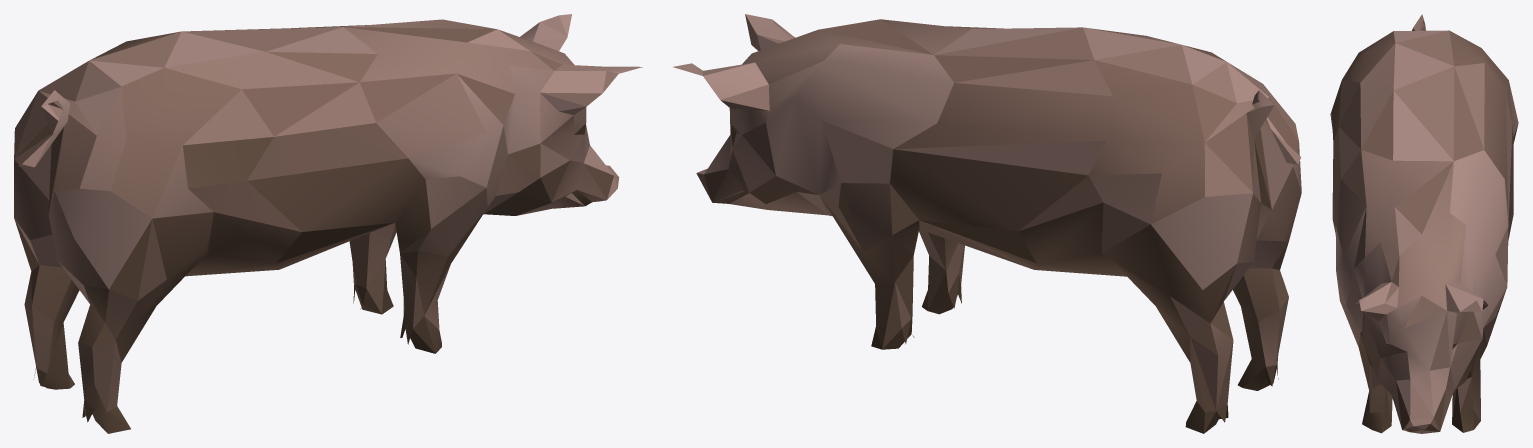
Rendered from pig.glb.
The picture shows the model from 3 angles, left to right: view 1: azimuth 30°, elevation 25°; view 2: azimuth 150°, elevation 25°; view 3: azimuth 270°, elevation 25°; orthographic projection. The views are drawn at different scales.
Visible parts, largest first — view 1: c2, c0, c4, c3, c1; view 2: c2, c4, c3, c0, c1; view 3: c0, c3, c2, c4, c1.
Boxes of the visible parts, x1=… form: c2: x1=14, y1=27, x2=606, y2=411; c0: x1=14, y1=19, x2=619, y2=303; c4: x1=14, y1=124, x2=613, y2=416; c3: x1=35, y1=14, x2=642, y2=288; c1: x1=34, y1=124, x2=585, y2=433; c2: x1=696, y1=19, x2=1301, y2=411; c4: x1=704, y1=114, x2=1288, y2=412; c3: x1=673, y1=14, x2=1301, y2=289; c0: x1=697, y1=14, x2=1301, y2=300; c1: x1=871, y1=141, x2=1278, y2=433; c0: x1=1330, y1=14, x2=1518, y2=433; c3: x1=1335, y1=16, x2=1508, y2=418; c2: x1=1333, y1=30, x2=1513, y2=431; c4: x1=1331, y1=81, x2=1518, y2=431; c1: x1=1362, y1=344, x2=1480, y2=433.
Bounding box in the file's own units: 1.35 × 0.7254 × 0.439.
